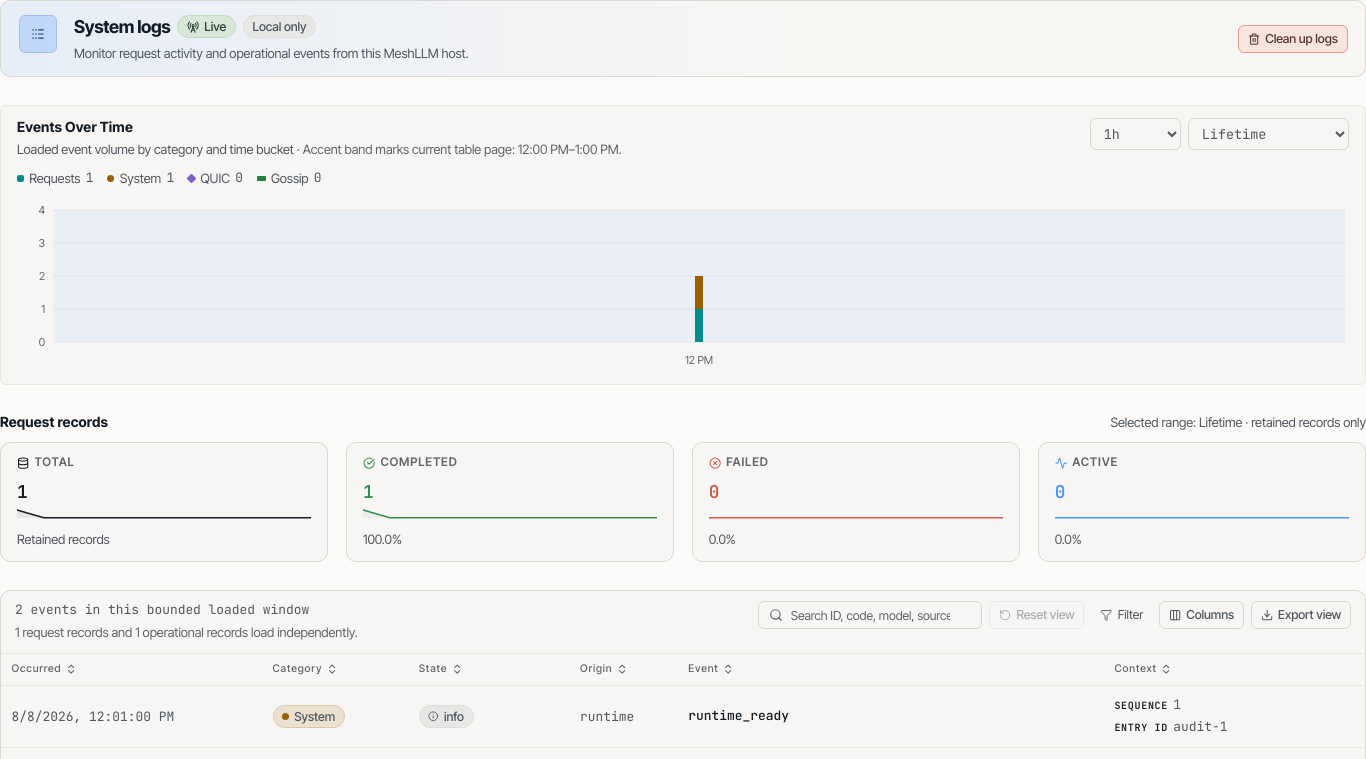
unified logs event ledger › keeps current categories visible and omits Iroh without an authoritative category
The width and height of the screenshot is (1366, 759).
Click the button with aria-label "Filter event logs" at (1122, 615), box 1092,601 -> 1152,629
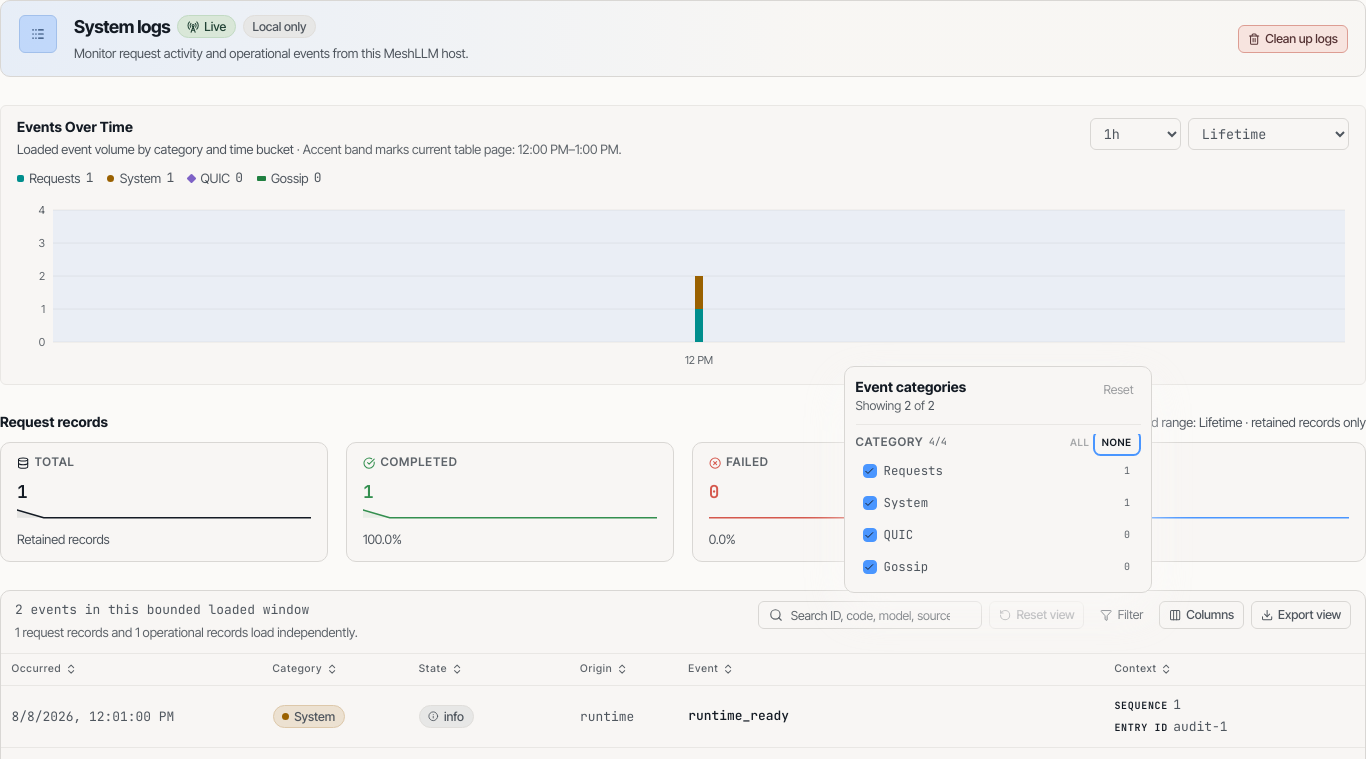
Expected: the checkbox labelled "Requests 1" is checked, 862,462 -> 1130,479
Expected: the checkbox labelled "System 1" is checked, 862,494 -> 1130,511
Expected: the checkbox labelled "QUIC 0" is checked, 862,526 -> 1130,543
